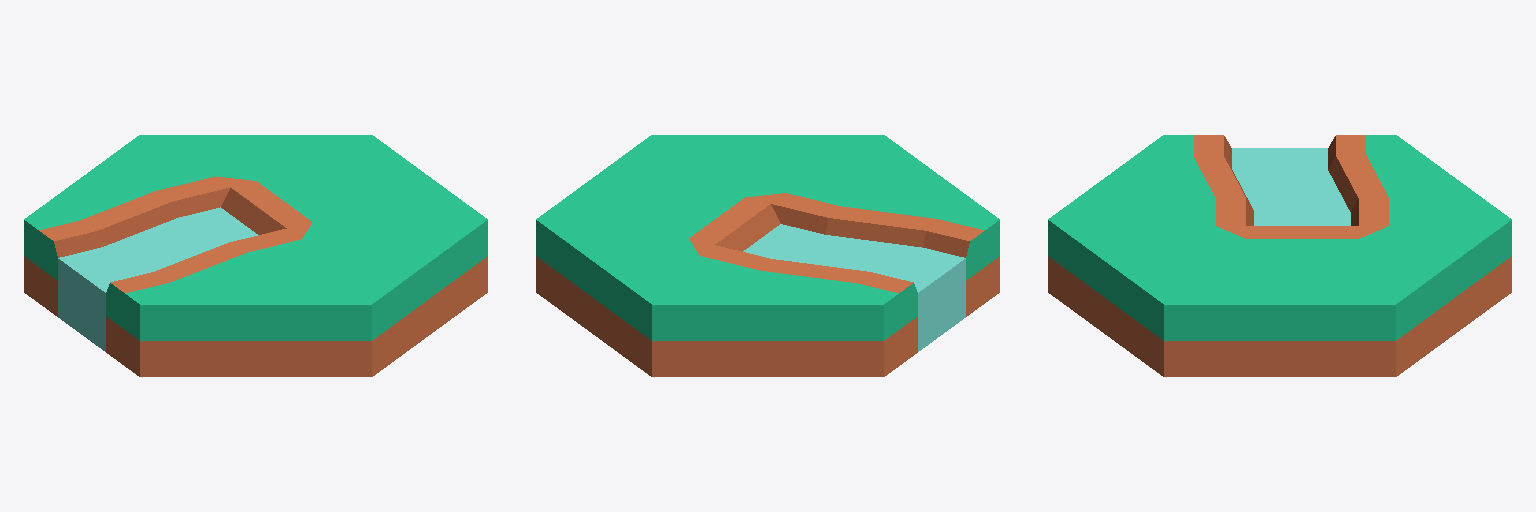
Rendered from river_end.obj.
The picture shows the model from 3 angles: view 1: azimuth 30°, elevation 25°; view 2: azimuth 150°, elevation 25°; view 3: azimuth 270°, elevation 25°; orthographic projection.
Parts seen in each view (by area): view 1: river_end; view 2: river_end; view 3: river_end.
Part boxes in pixels (bbox=[...]): river_end: bbox=[24, 135, 487, 376]; river_end: bbox=[536, 135, 999, 376]; river_end: bbox=[1048, 135, 1511, 376].
Size of the model in its own units: 1 by 0.2 by 1.15.